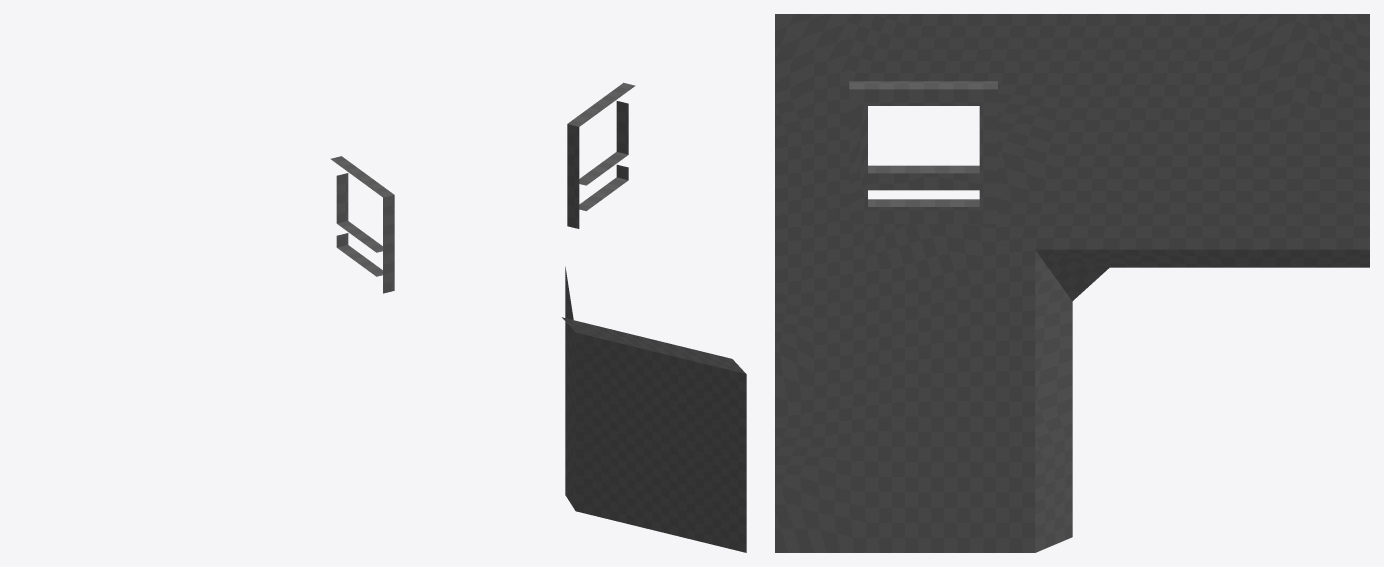
3 renders of one model, left to right at view 1: azimuth 30°, elevation 25°; view 2: azimuth 150°, elevation 25°; view 3: azimuth 270°, elevation 25°, orthographic. The views are drawn at different scales.
Visible parts, largest first — view 1: 1; view 2: 1; view 3: 1.
Boxes of the visible parts, <box> form: 1: <box>330,156,394,293</box>; 1: <box>562,82,746,552</box>; 1: <box>775,14,1369,552</box>.
Size of the model in its own units: 2.12 by 4 by 4.
Materials: 2 (2 with a texture image).
